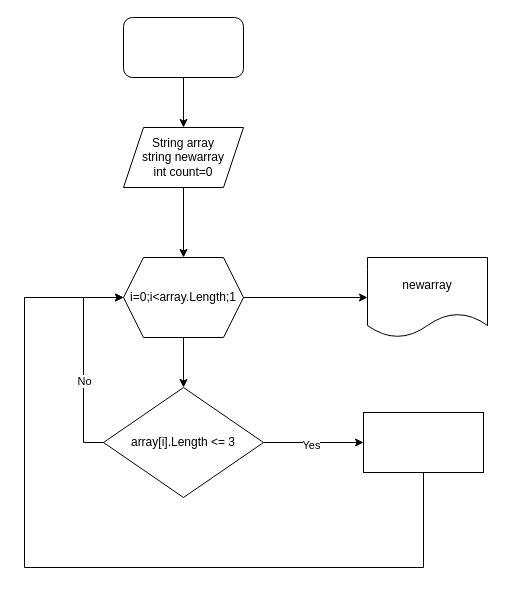
Some shapes in this 505 by 593 pixel diagram are drawn without their labels. Each missing label, with the centre of its shape:
newarray[count] = array[i]; count++: point 423,442
SecondArray: point 183,47
